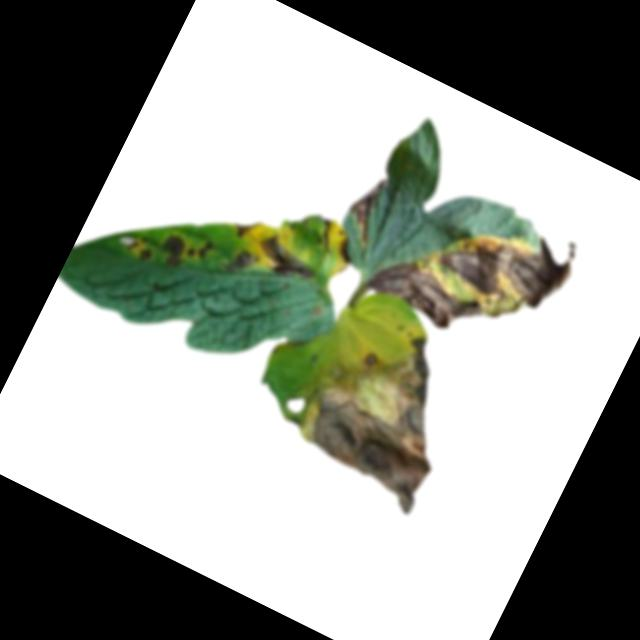Early_blight: (279, 301, 484, 519), (417, 182, 587, 327), (365, 249, 503, 351), (335, 168, 398, 249), (251, 230, 322, 291), (155, 227, 194, 269), (220, 241, 257, 280), (122, 230, 159, 265), (227, 211, 260, 244), (185, 231, 217, 265), (332, 236, 358, 264)
